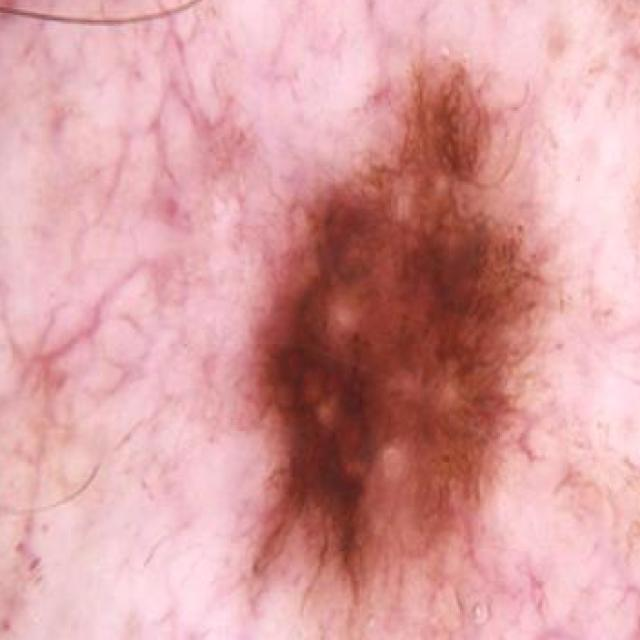MEL: (238, 13, 566, 612)
